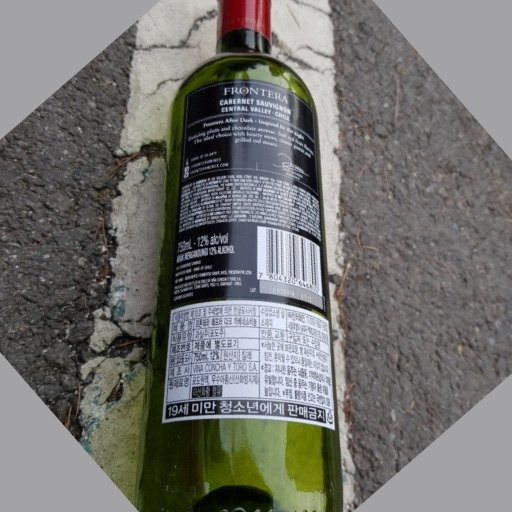Glass_2: (140, 1, 342, 512)
